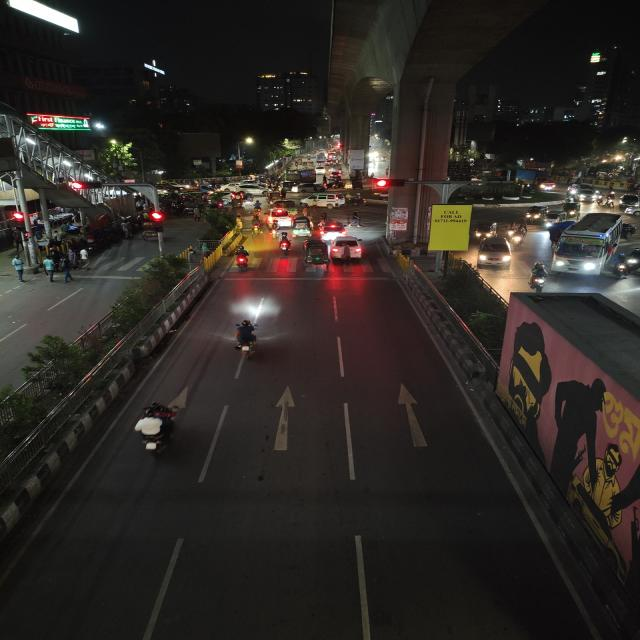bus: (550, 212, 625, 278), (280, 169, 318, 183)
car: (475, 236, 515, 270), (329, 234, 366, 263), (302, 191, 345, 209), (318, 220, 348, 238), (367, 175, 391, 195), (234, 183, 268, 196), (266, 210, 292, 226), (293, 184, 325, 192), (575, 190, 595, 202), (219, 185, 239, 193)
cng: (302, 239, 329, 271), (472, 221, 498, 241), (290, 216, 312, 237), (524, 205, 547, 223), (267, 200, 298, 213), (543, 209, 564, 226), (563, 201, 581, 217), (280, 181, 292, 191)
motorcycle: (127, 400, 189, 461), (227, 317, 264, 361), (525, 262, 550, 294), (231, 246, 253, 274), (611, 249, 630, 281), (625, 246, 640, 274), (278, 232, 294, 256), (317, 213, 332, 237), (622, 221, 639, 239), (510, 230, 523, 251), (268, 220, 282, 239), (248, 217, 263, 234), (603, 193, 616, 209), (504, 222, 516, 236)
pedestrian: (10, 252, 28, 282), (40, 255, 58, 283), (60, 255, 75, 283), (350, 208, 366, 228)
rickshaw: (138, 222, 165, 243)
